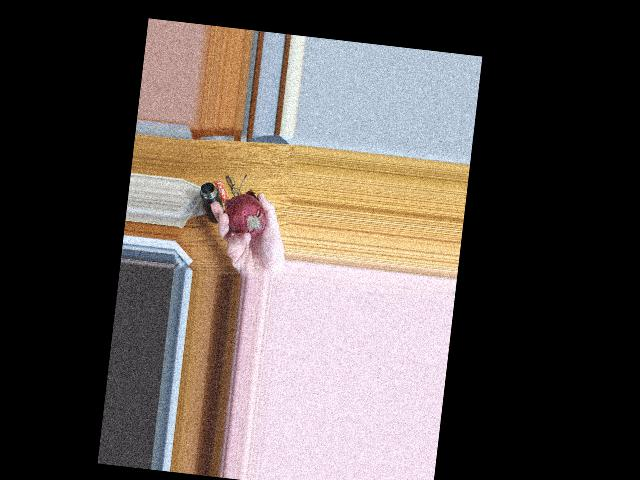onion: (222, 192, 269, 243)
